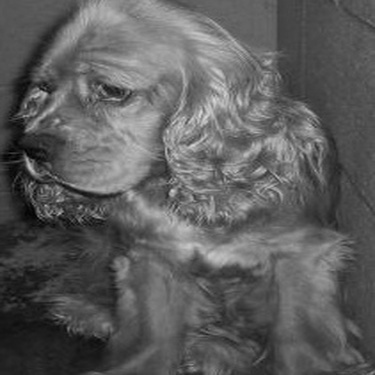dog: (3, 2, 370, 370)
